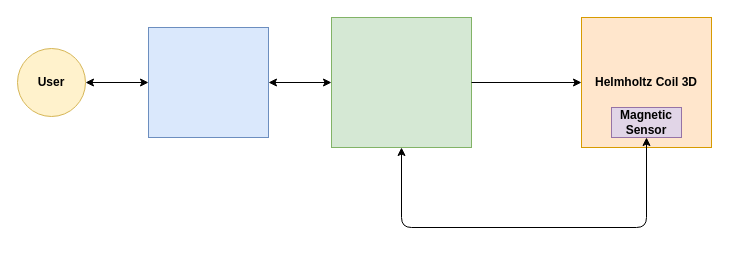
This 729x254 diagram has some shape labels left out. The shapes that lost their labels are listed below. From the top down, each one's centre as x and y in pixels, then its label:
At (x=208, y=82): "Interface".
At (x=401, y=82): "Controller".
